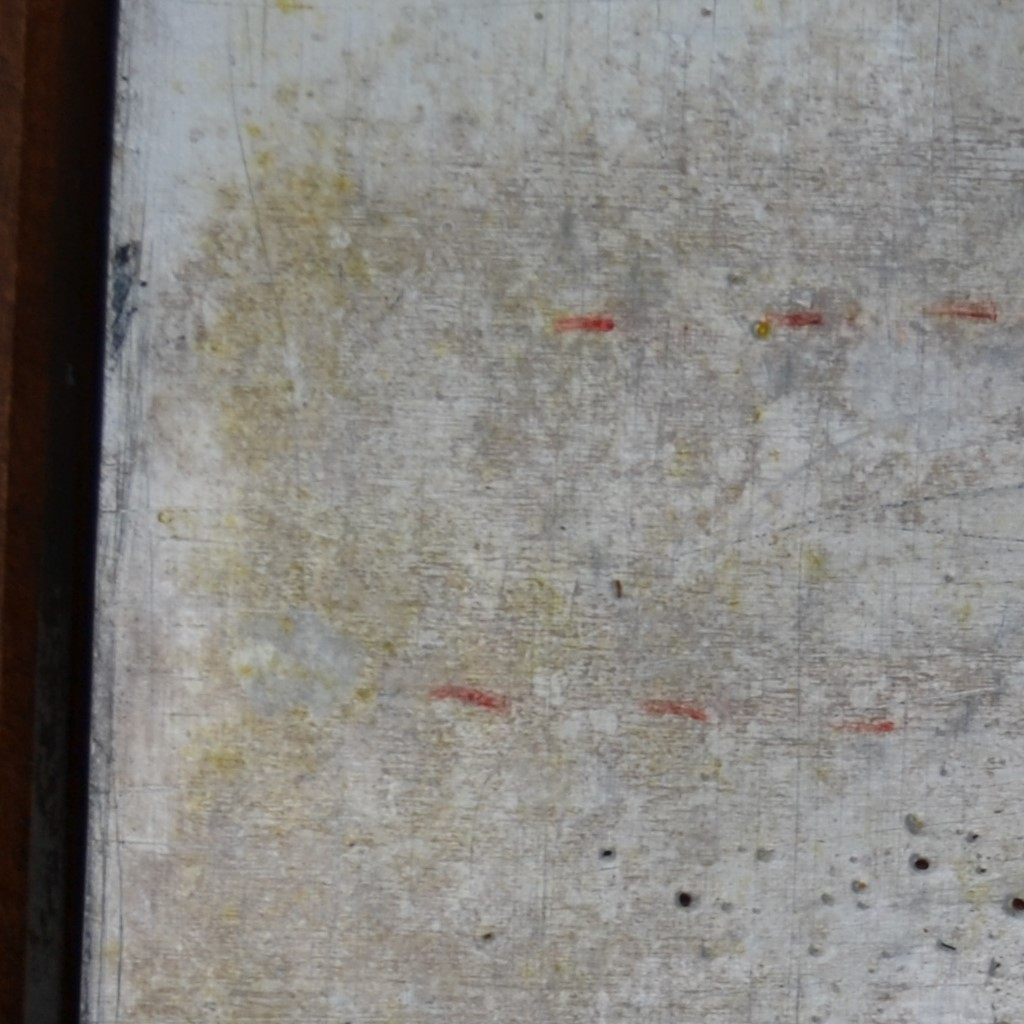varroa: (675, 888, 695, 909), (912, 855, 931, 874), (1009, 894, 1023, 915)
